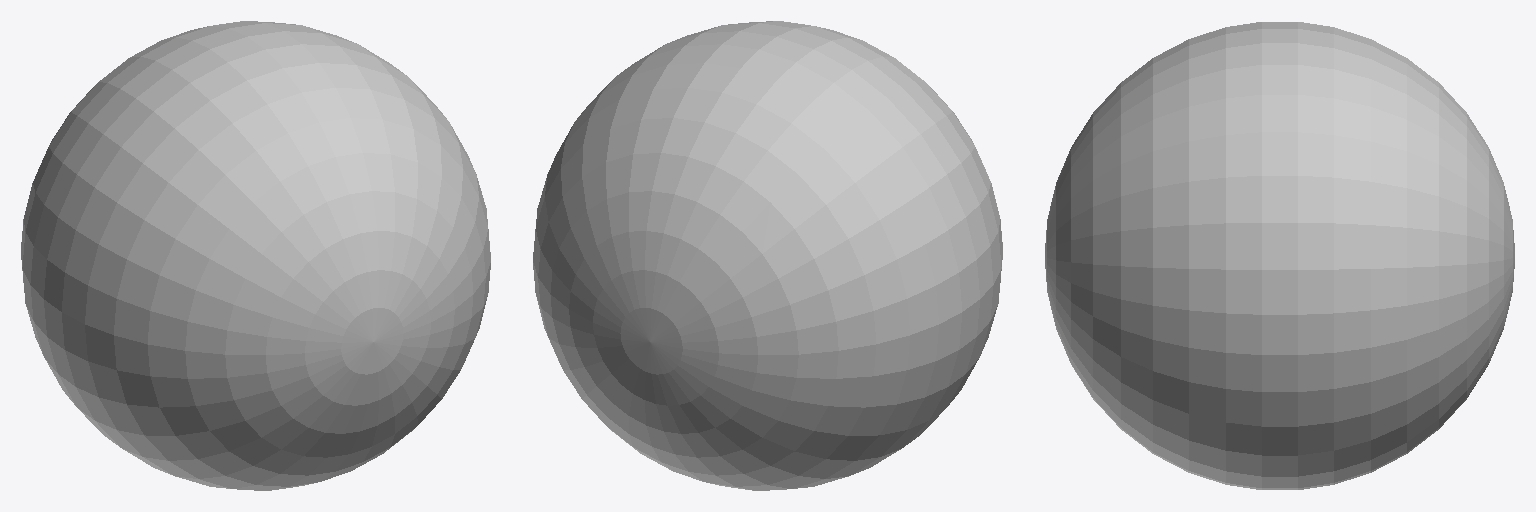
Rendered from ball2.obj.
The picture shows the model from 3 angles: view 1: azimuth 30°, elevation 25°; view 2: azimuth 150°, elevation 25°; view 3: azimuth 270°, elevation 25°; orthographic projection.
Visible parts, largest first — view 1: SurfSphere; view 2: SurfSphere; view 3: SurfSphere.
Boxes of the visible parts, x1,y1,x2,y2 form: SurfSphere: [21, 21, 490, 490]; SurfSphere: [533, 21, 1002, 490]; SurfSphere: [1045, 22, 1514, 489].
Bounding box in the file's own units: 1.99 × 1.99 × 2.